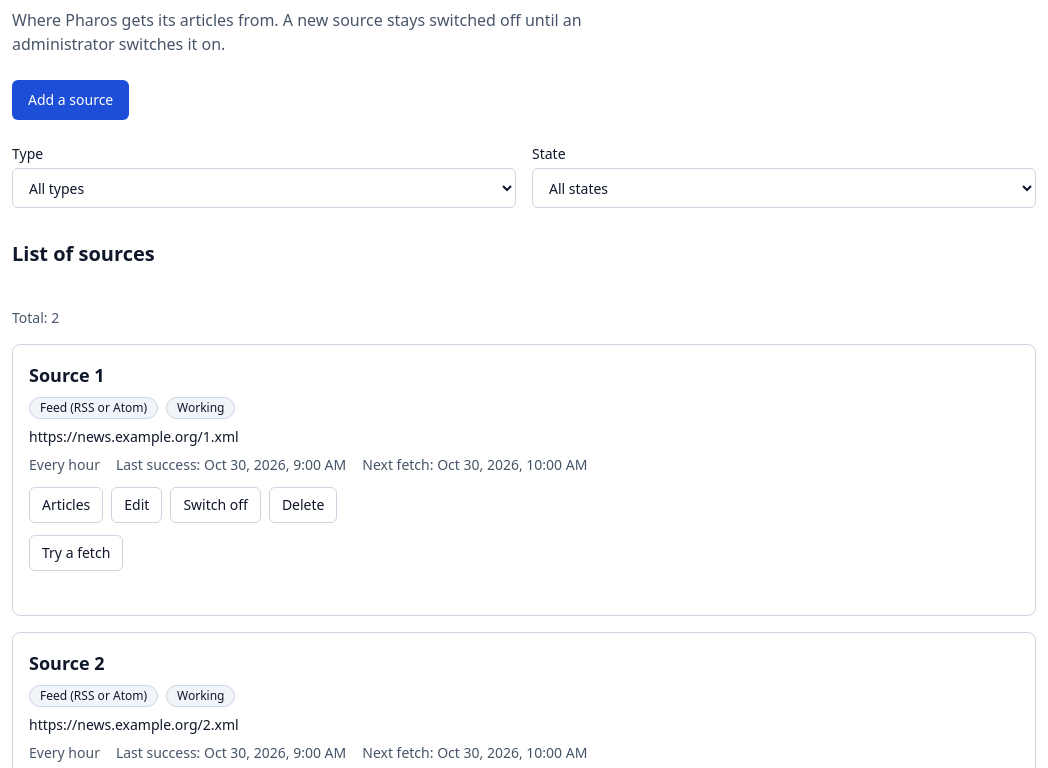
switching on and off › sends the change with the CSRF token, reloads and says so
Click the button "Switch off": (216,505) left=170, top=487, right=261, bottom=523
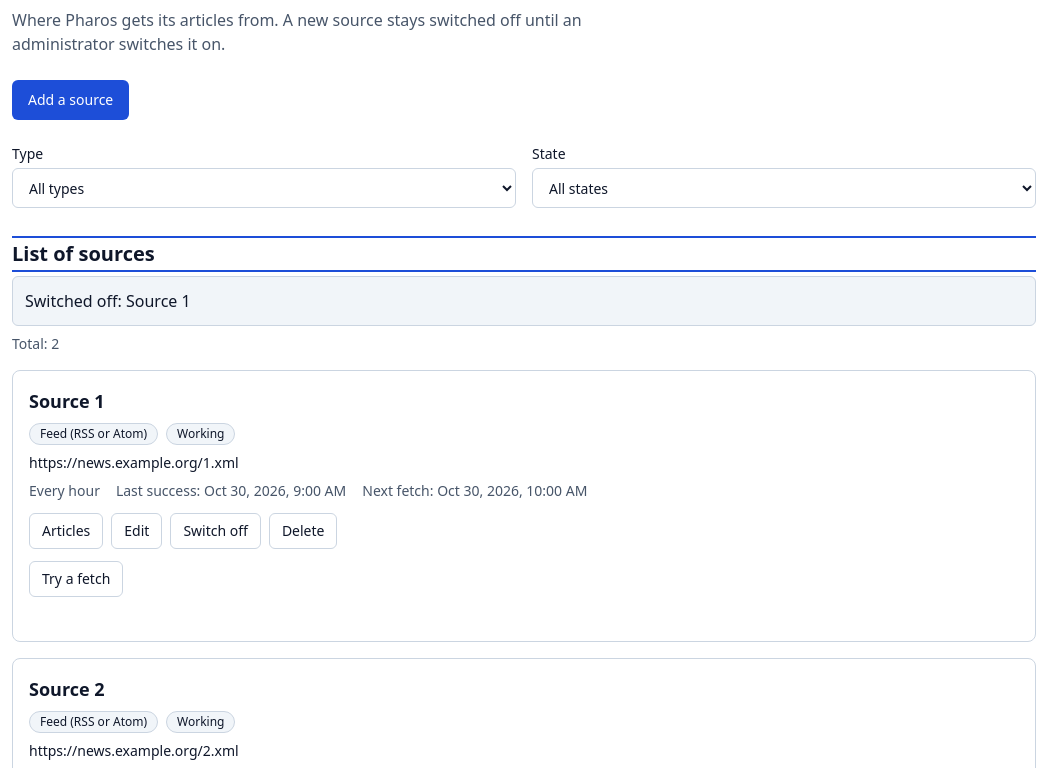
Expected: the message "Switched off: Source 1" is shown, left=12, top=276, right=1036, bottom=326
